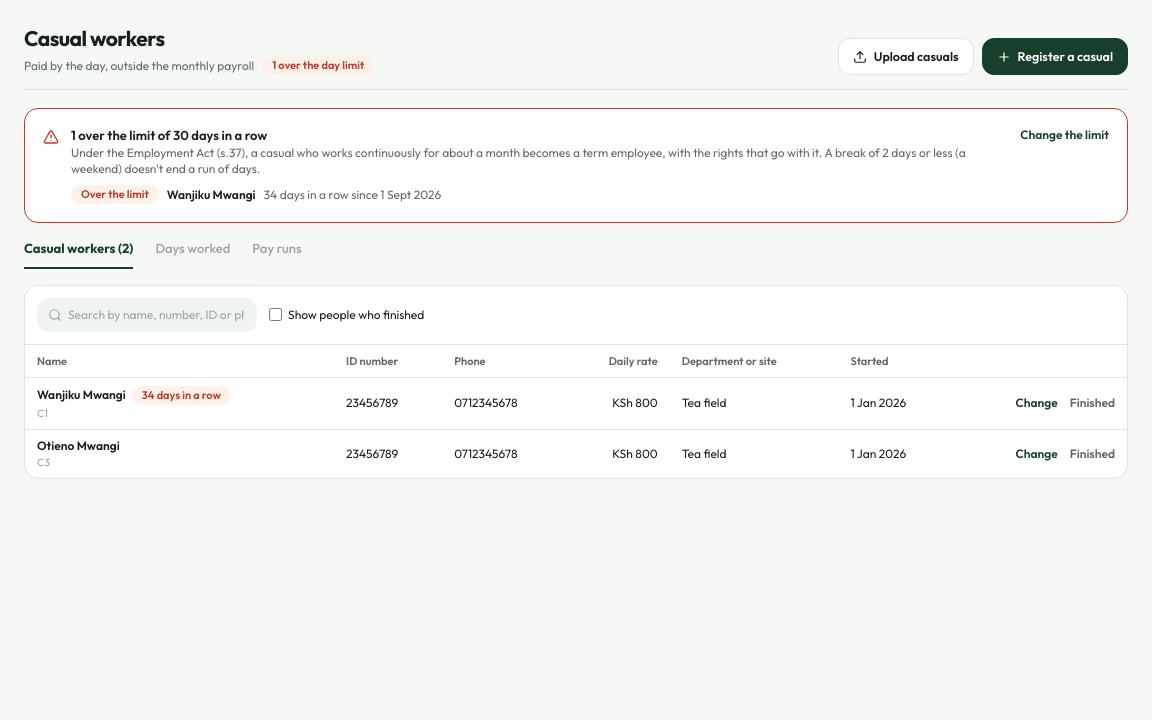
Test case: CasualWorkers › the week grid records a day and approves the waiting ones
Later steps or results of the test are not shown.
Click the button "Days worked": [193, 254] box [155,239,230,268]
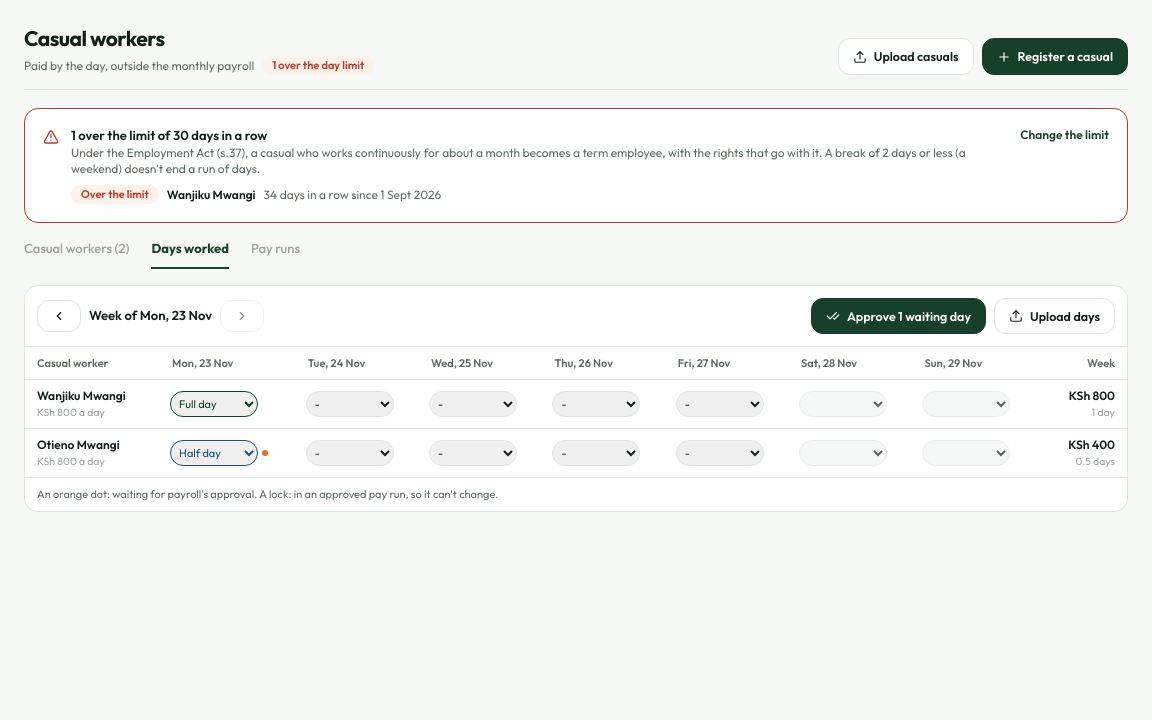
Expected: the dropdown named "Wanjiku Mwangi, Mon, 23 Nov" shows "Full day", [170,391,258,417]
